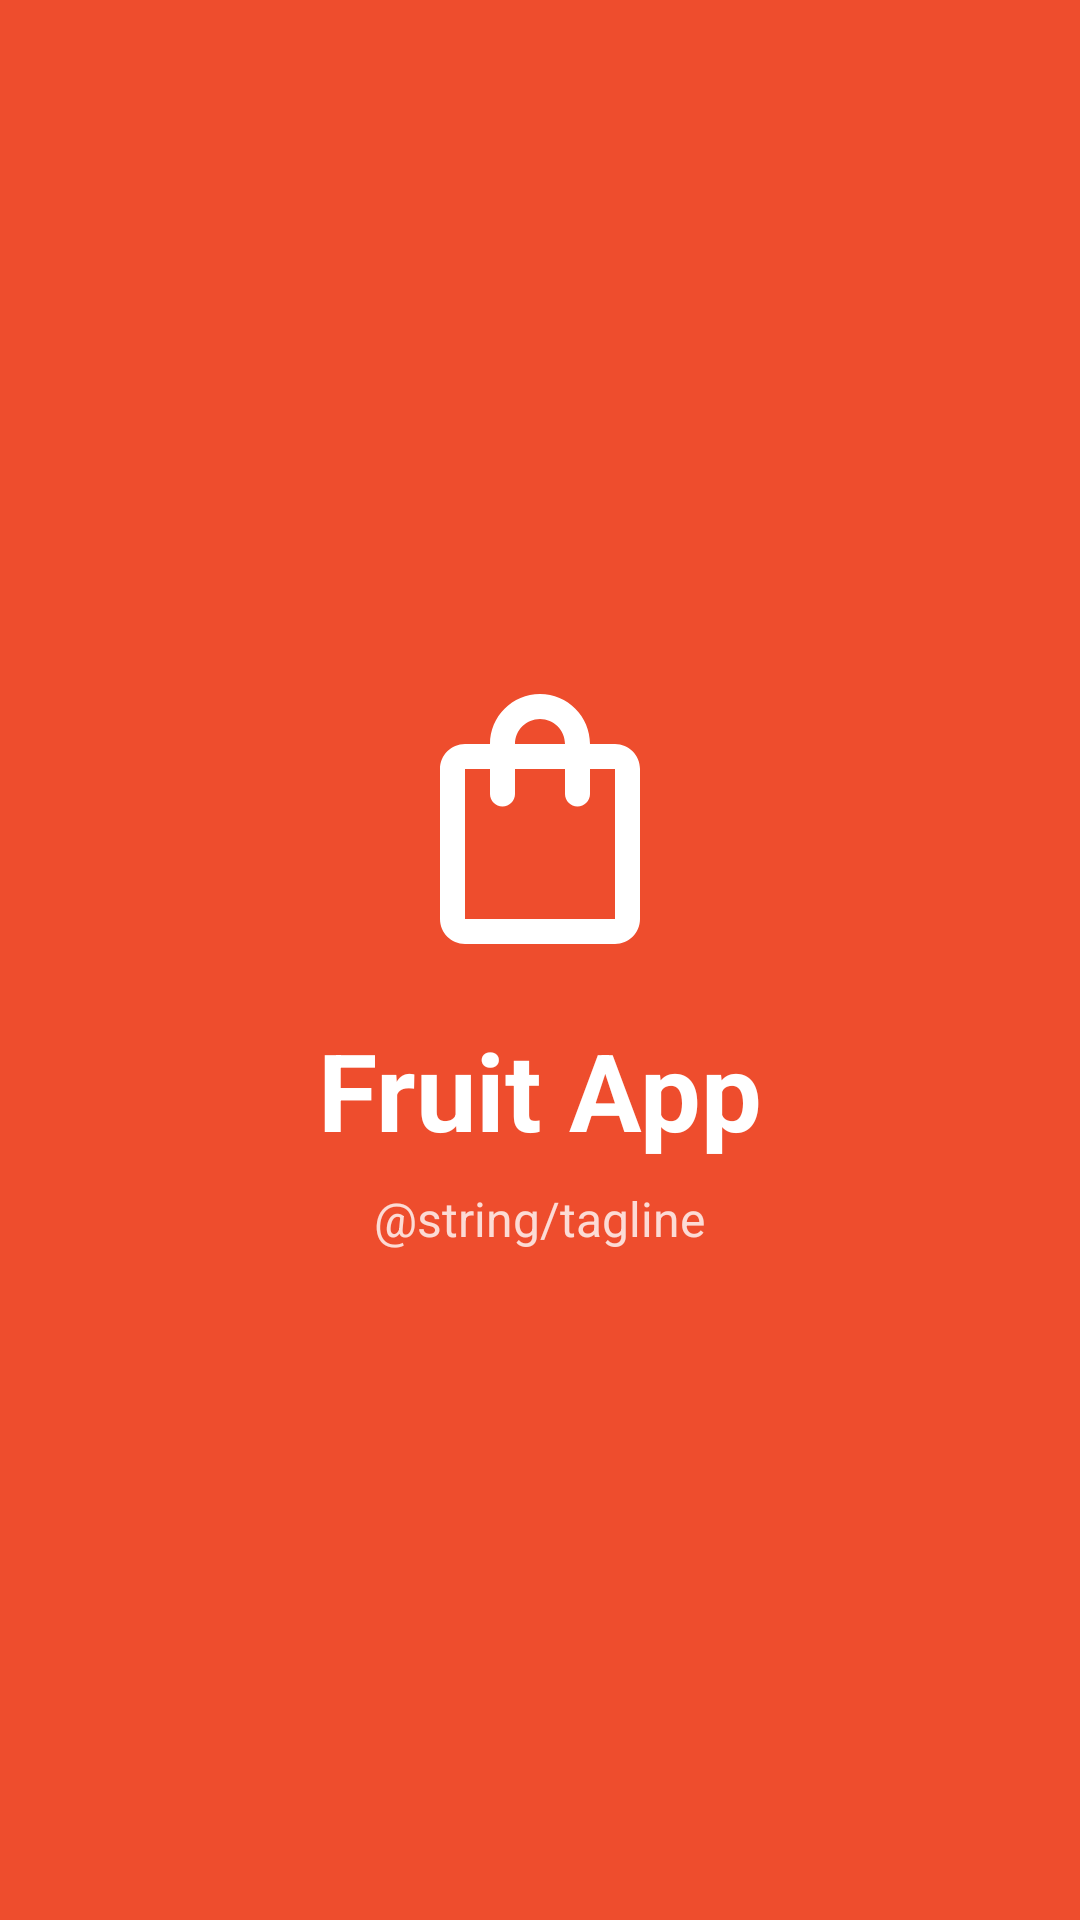

Point at icon controls on the screen. Image size 1080 × 1920, points as [x,y].
shopping bag: [540,819]
